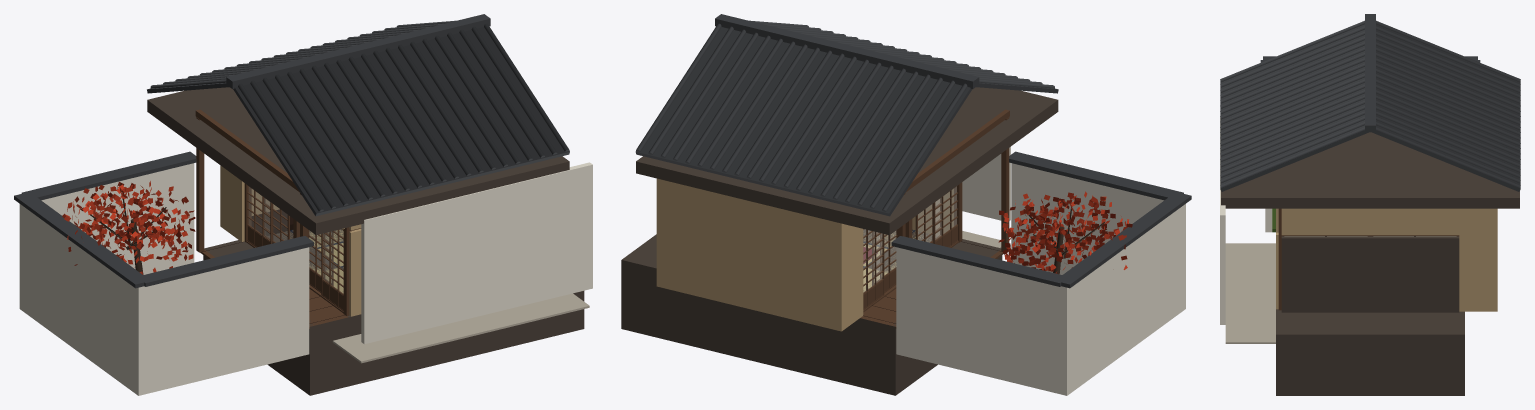
3 views of the same model, side by side, from view 1: azimuth 30°, elevation 25°; view 2: azimuth 150°, elevation 25°; view 3: azimuth 270°, elevation 25° (orthographic). The views are drawn at different scales.
Parts seen in each view (by area): view 1: scene; view 2: scene; view 3: scene.
Part boxes in pixels (x1=…): scene: x1=14, y1=14, x2=592, y2=395; scene: x1=621, y1=14, x2=1191, y2=395; scene: x1=1220, y1=14, x2=1520, y2=395.
Bounding box in the file's own units: 10.04 × 5.96 × 6.46.
